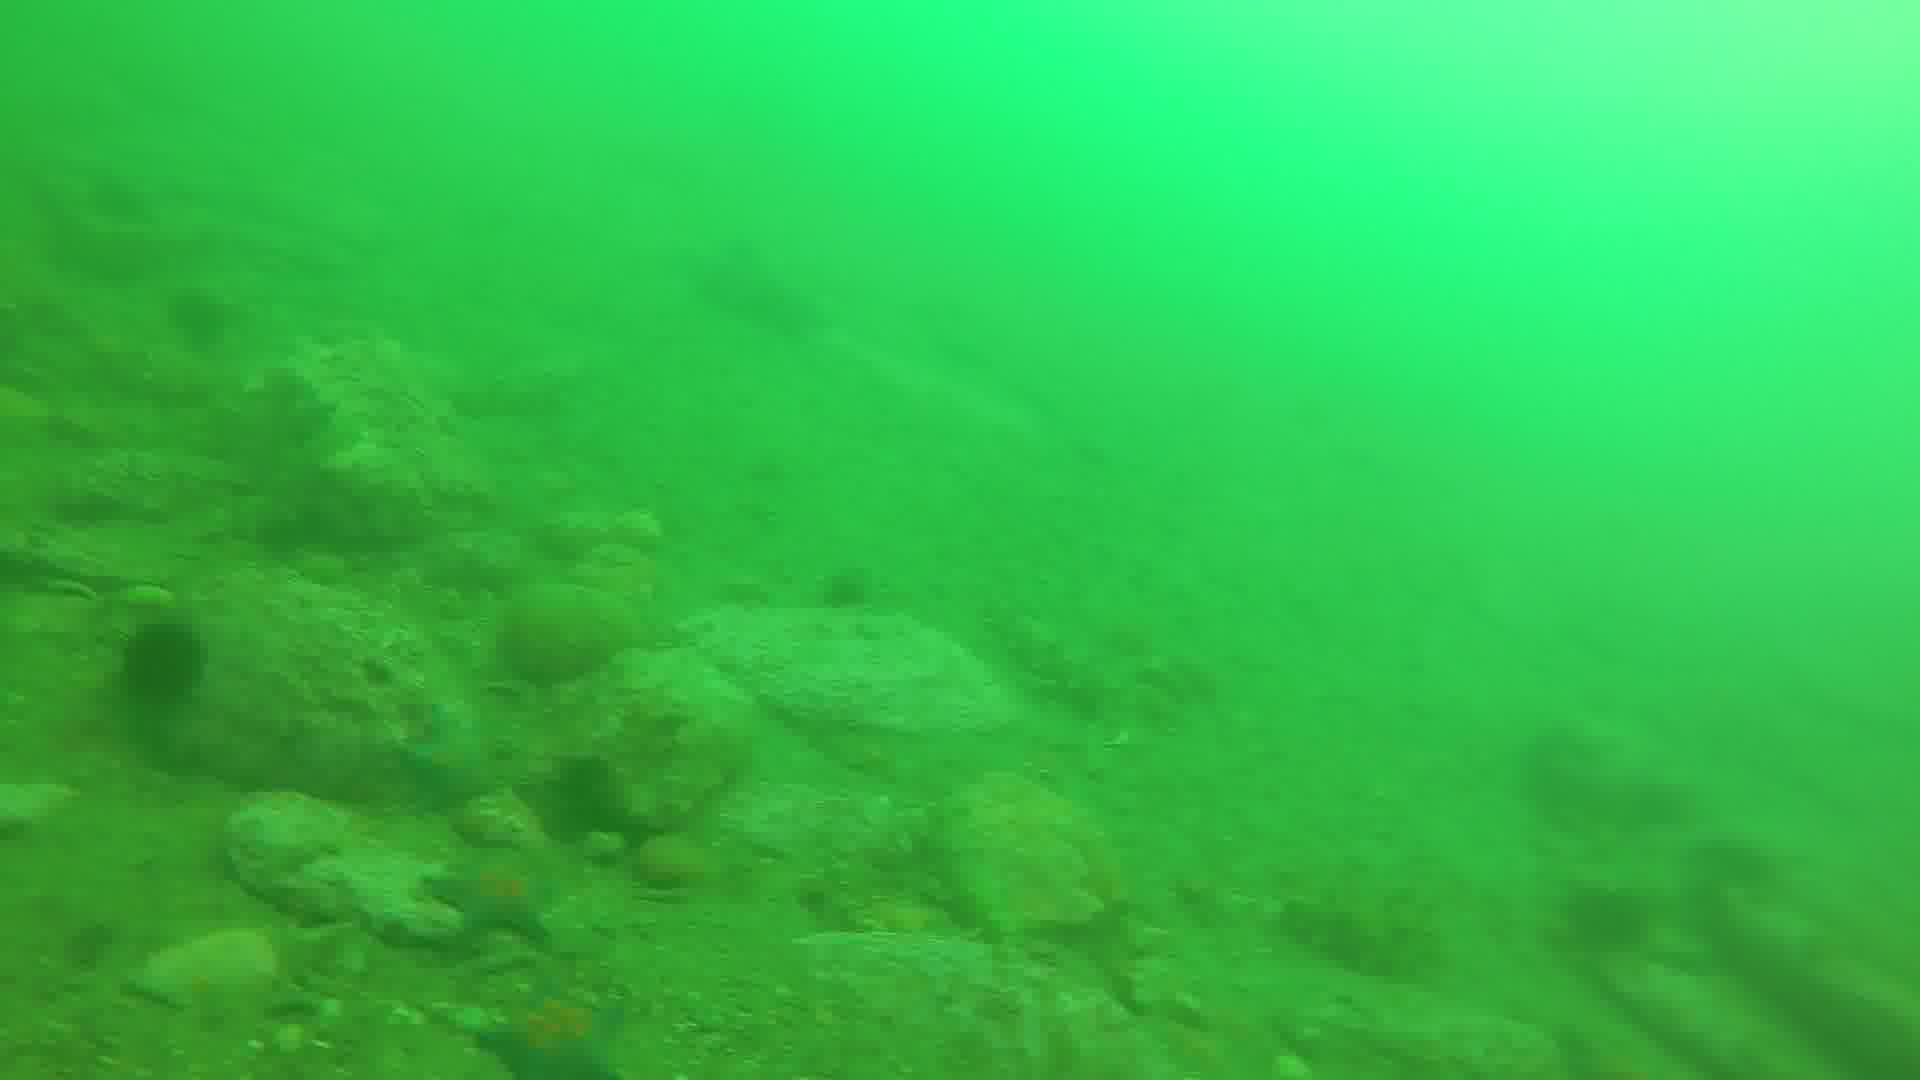echinus: (132, 617, 208, 705)
holothurian: (994, 597, 1114, 721), (1288, 899, 1437, 985)
starfish: (480, 982, 633, 1080), (429, 851, 551, 938)
